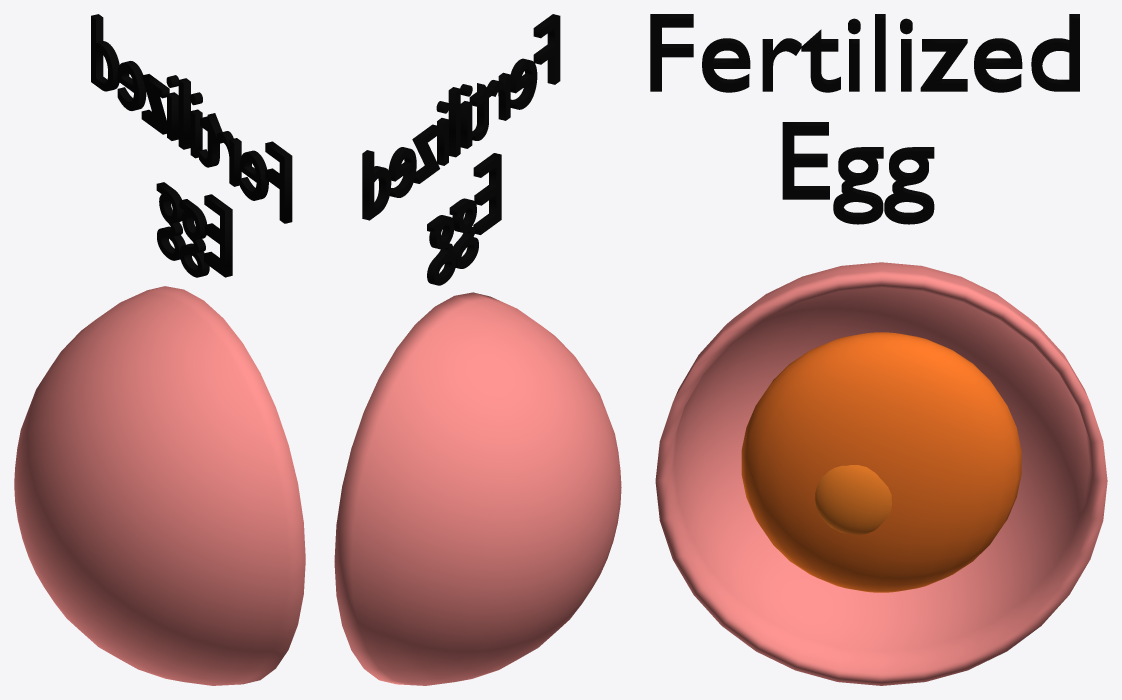
The model's file is (3)Fertilized Egg.gltf.
3 renders of one model, left to right at view 1: azimuth 30°, elevation 25°; view 2: azimuth 150°, elevation 25°; view 3: azimuth 270°, elevation 25°, orthographic. The views are drawn at different scales.
Visible parts, largest first — view 1: Sphere, Text; view 2: Sphere, Text; view 3: Sphere, Sphere.002, Text, Sphere.001.
Part boxes in pixels (x1=…): Sphere: x1=14, y1=286, x2=305, y2=685; Text: x1=91, y1=14, x2=292, y2=277; Sphere: x1=334, y1=292, x2=621, y2=685; Text: x1=362, y1=14, x2=560, y2=285; Sphere: x1=655, y1=262, x2=1107, y2=685; Sphere.002: x1=741, y1=332, x2=1021, y2=592; Text: x1=650, y1=14, x2=1079, y2=224; Sphere.001: x1=815, y1=465, x2=891, y2=534.
Size of the model in its own units: 0.8967 by 2.79 by 1.76.
